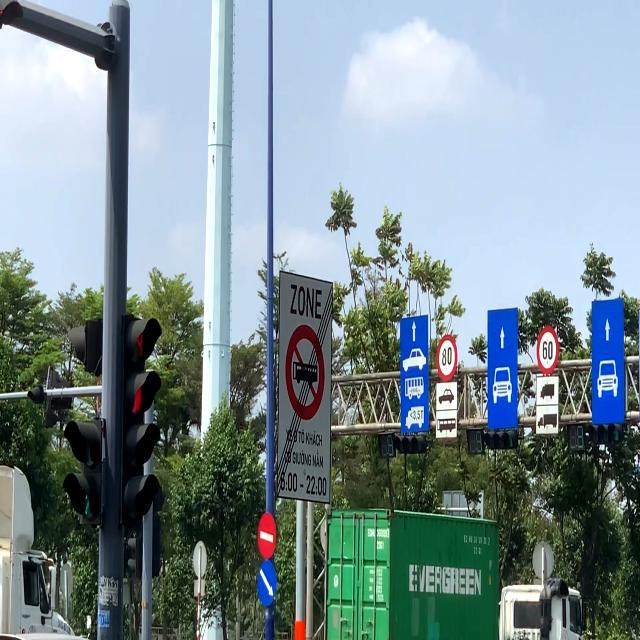P.102: (256, 511, 278, 560)
P.127: (536, 325, 558, 373), (437, 334, 457, 381)
R.302a: (256, 559, 278, 608)
